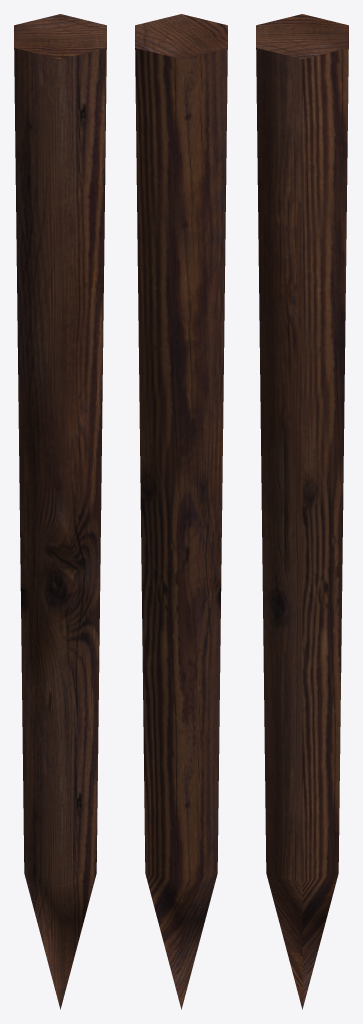
The model's file is ShackWoodenStake.fbx.
3 views of the same model, side by side, from view 1: azimuth 90°, elevation 25°; view 2: azimuth 210°, elevation 25°; view 3: azimuth 270°, elevation 25° (orthographic).
Visible parts, largest first — view 1: ShackWoodenStake; view 2: ShackWoodenStake; view 3: ShackWoodenStake.
Boxes of the visible parts, x1=… form: ShackWoodenStake: x1=14, y1=14, x2=106, y2=1009; ShackWoodenStake: x1=135, y1=14, x2=227, y2=1009; ShackWoodenStake: x1=256, y1=14, x2=348, y2=1009.
Bounding box in the file's own units: 4 × 40.13 × 3.46.
1 material, 1 textured.
